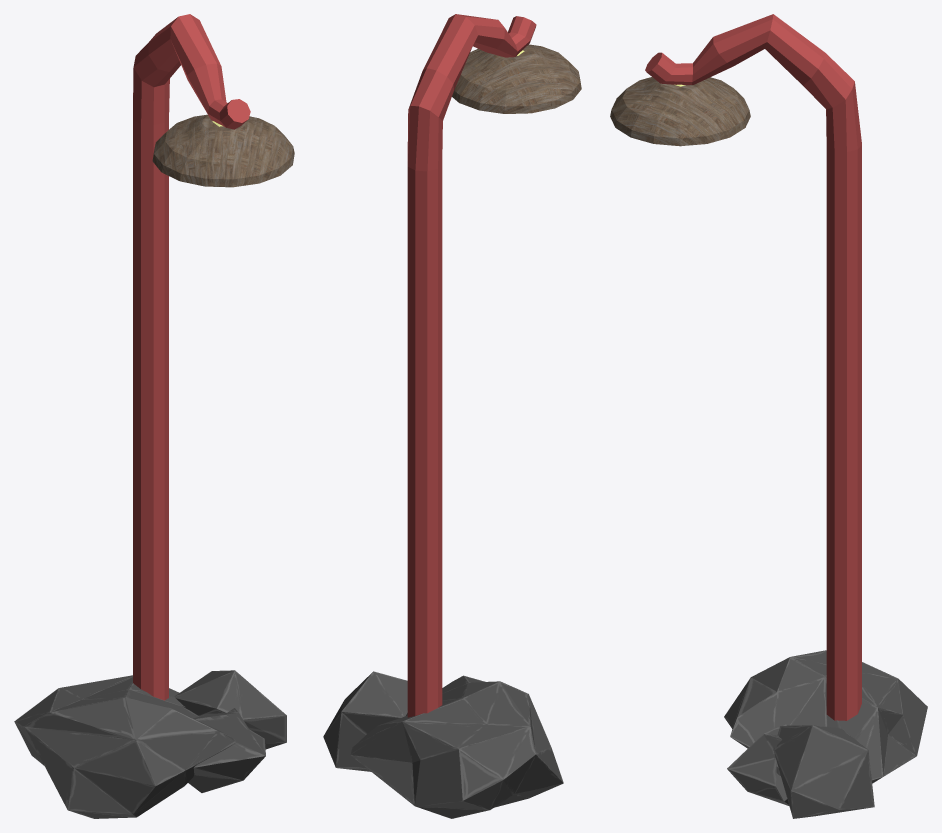
Rendered from Poste.obj.
3 views of the same model, side by side, from view 1: azimuth 30°, elevation 25°; view 2: azimuth 150°, elevation 25°; view 3: azimuth 270°, elevation 25° (orthographic). The views are drawn at different scales.
Parts seen in each view (by area): view 1: Cylinder, Rock_Cube.001, Cylinder.001; view 2: Cylinder, Rock_Cube.001, Cylinder.001; view 3: Cylinder, Rock_Cube.001, Cylinder.001.
Boxes of the visible parts, left/top/right/bottom form: Cylinder: left=133, top=14, right=250, bottom=700; Rock_Cube.001: left=14, top=670, right=286, bottom=818; Cylinder.001: left=152, top=114, right=294, bottom=187; Cylinder: left=407, top=14, right=536, bottom=717; Rock_Cube.001: left=323, top=671, right=563, bottom=818; Cylinder.001: left=452, top=44, right=581, bottom=113; Cylinder: left=645, top=14, right=861, bottom=720; Rock_Cube.001: left=724, top=650, right=927, bottom=818; Cylinder.001: left=610, top=77, right=750, bottom=146.
Bounding box in the file's own units: 0.8693 × 2.84 × 1.05.
Materials: 4 (4 with a texture image).
